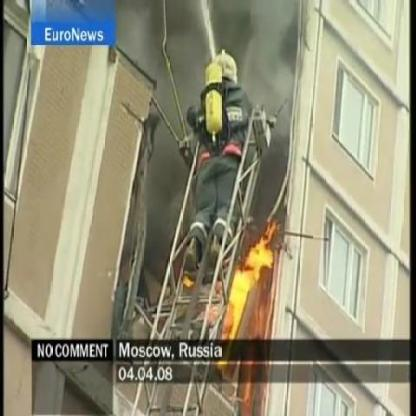fire: (224, 219, 281, 341), (182, 273, 195, 289)
